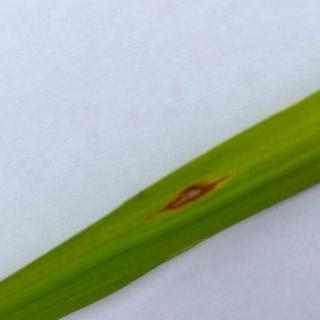Blast: (163, 182, 226, 212)
